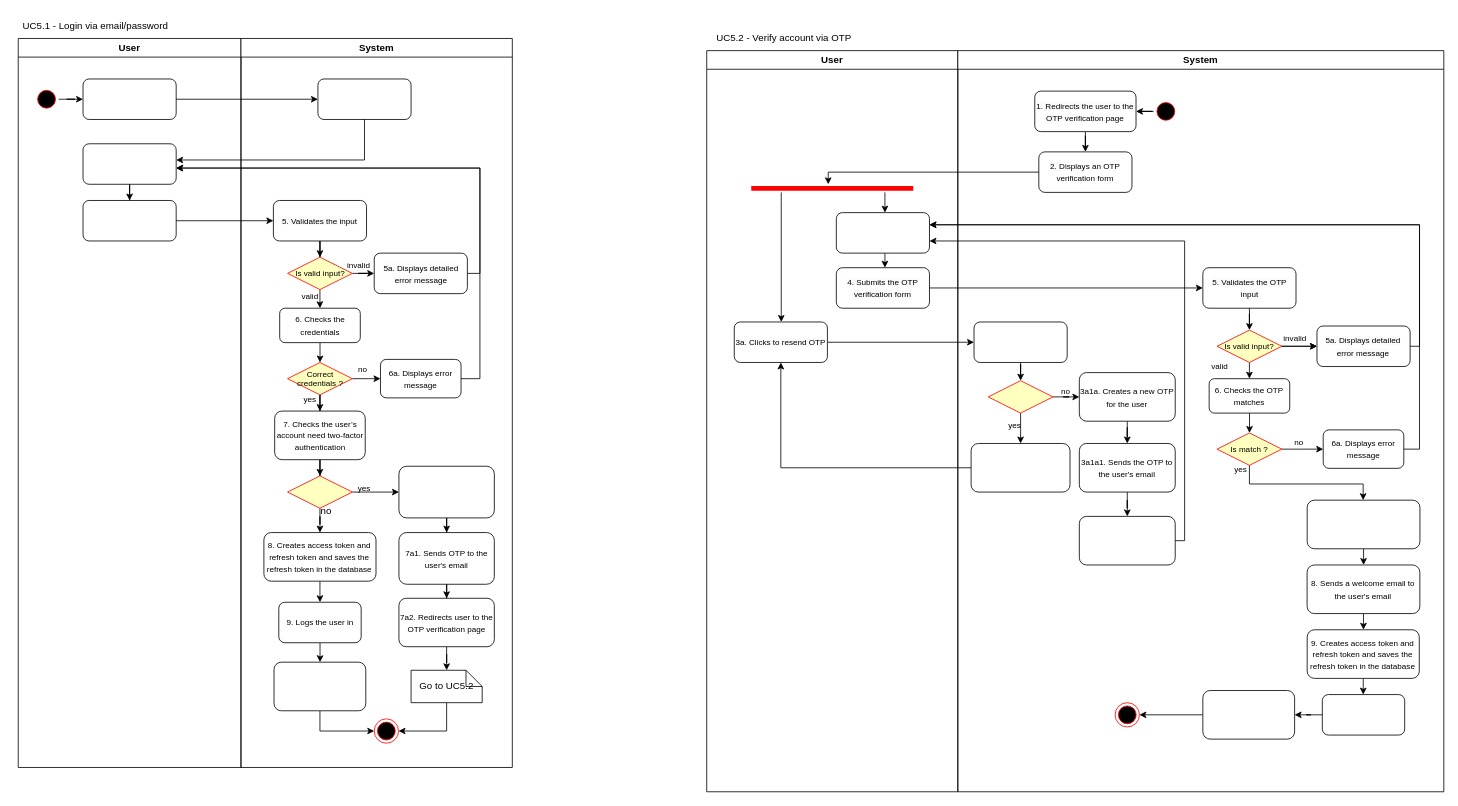
The diagram is 1458 pixels wide and 806 high, and some of its shapes have lost their labels. Here are the shapes that lost their labels. From the top down, the centre of each, then its label:
point (129, 98): 1. Accesses to login page
point (364, 98): 2. Displays a login form
point (129, 163): 3. Enters email and password
point (129, 220): 4. Submits the login form
point (882, 232): 3. Checks email and enters the OTP code to the form
point (1020, 341): 3a1. Checks the user has a valid OTP
point (1020, 396): Have valid OTP?
point (1020, 467): 3a2. Displays a message asking the user to wait for OTP to expire
point (319, 491): Is need 2FA?
point (446, 491): 7a. Creates an OTP in the database
point (1127, 540): 3a1a2. Displays a success message
point (1363, 524): 7. Updates the user's account is verified and removes the OTP in the database
point (319, 686): 10. Redirects the user to appropriate page based on user type
point (1248, 714): 11. Redirects the user to appropriate page based on user type
point (1363, 714): 10. Logs the user in
